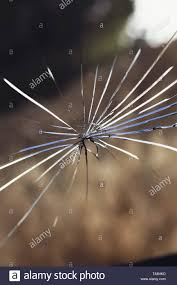crack: (12, 80, 177, 190)
